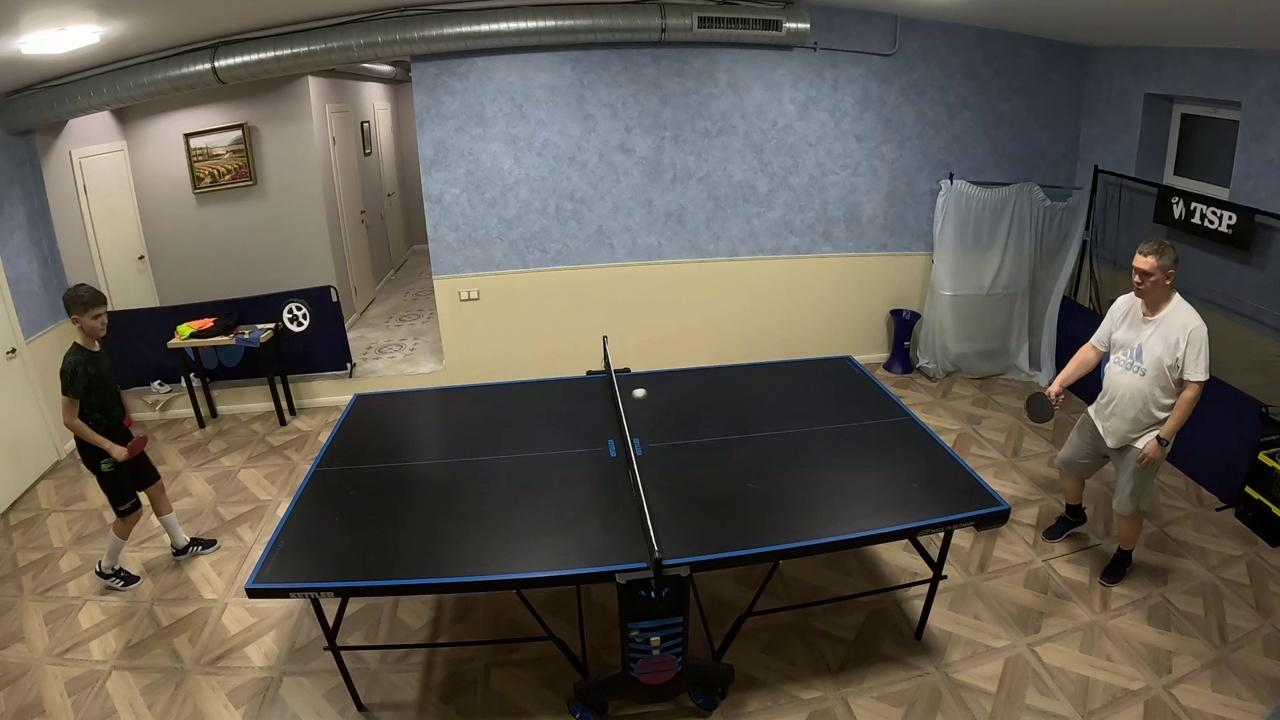Ball: (628, 385, 652, 404)
Net: (602, 336, 669, 602)
Player1: (44, 267, 211, 604)
Player2: (1065, 230, 1211, 601)
Table: (247, 371, 650, 596), (616, 356, 1010, 571)
